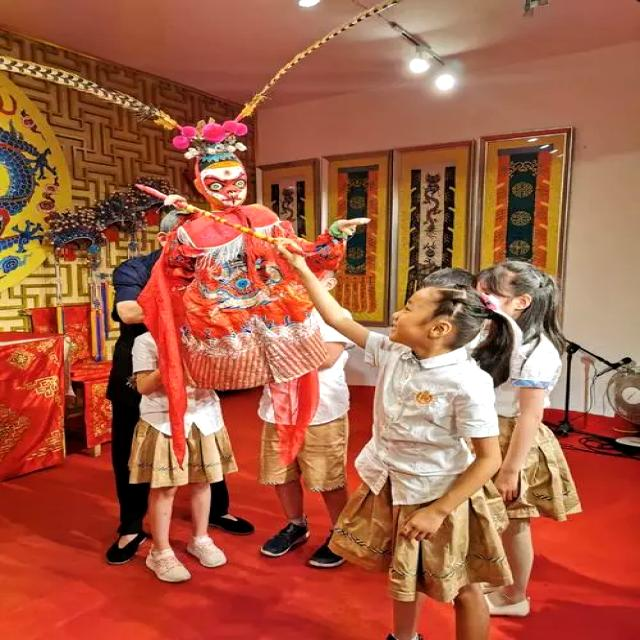Reeves-s Pheasant: (234, 0, 404, 125), (0, 55, 183, 137)
